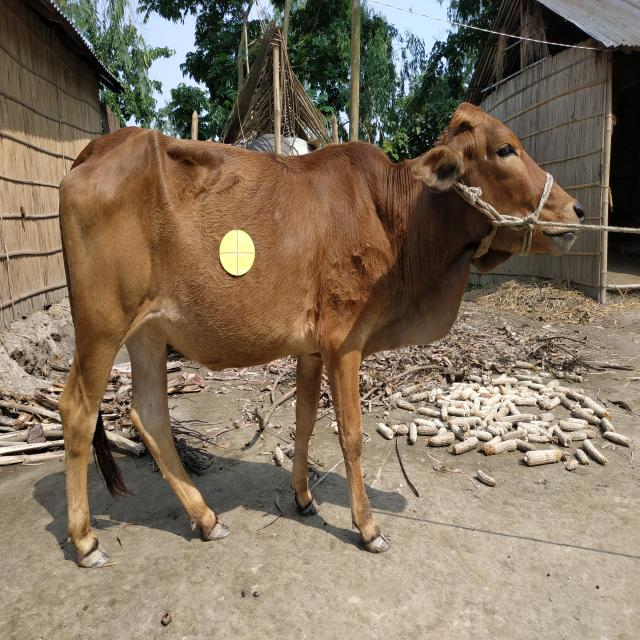badan_sapi: (61, 149, 402, 367)
sapi: (43, 95, 598, 569)
